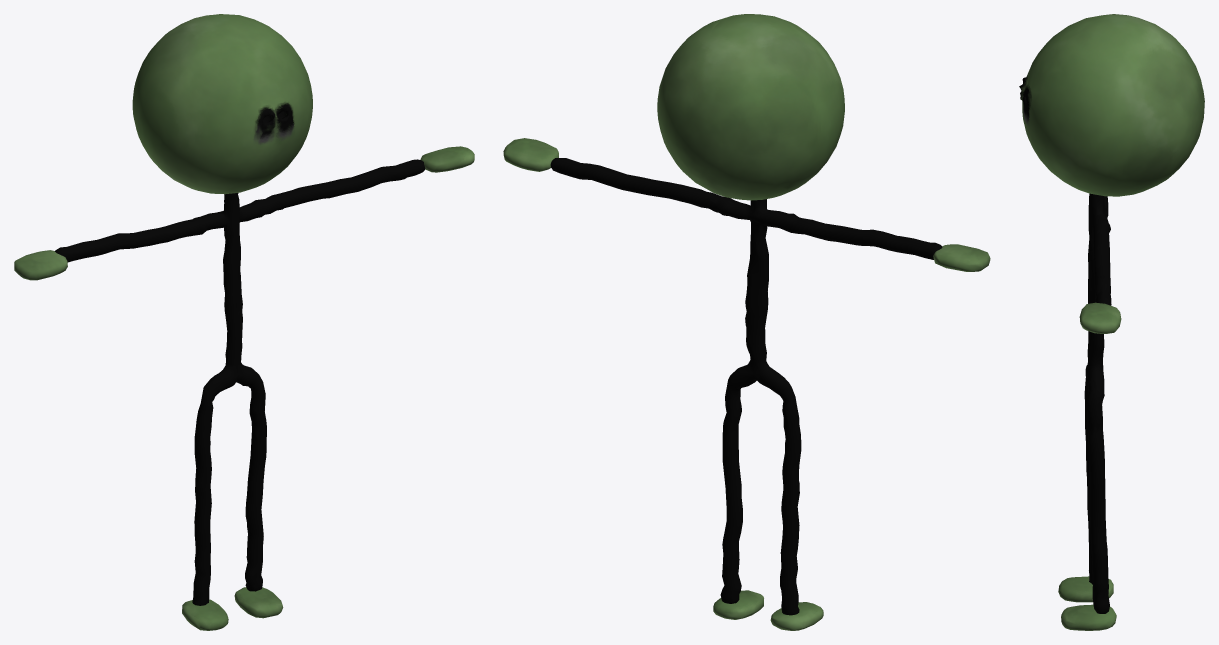
File: zombie mfer.glb
3 renders of one model, left to right at view 1: azimuth 30°, elevation 25°; view 2: azimuth 150°, elevation 25°; view 3: azimuth 270°, elevation 25°, orthographic. The views are drawn at different scales.
Parts seen in each view (by area): view 1: type_zombie.002; view 2: type_zombie.002; view 3: type_zombie.002.
Part boxes in pixels (box(x1,y1,x2,y2)): type_zombie.002: box(14, 14, 474, 630); type_zombie.002: box(503, 14, 990, 630); type_zombie.002: box(1019, 14, 1204, 630).
Bounding box in the file's own units: 0.9747 × 1.19 × 0.3376.
Materials: 3 (3 with a texture image).
